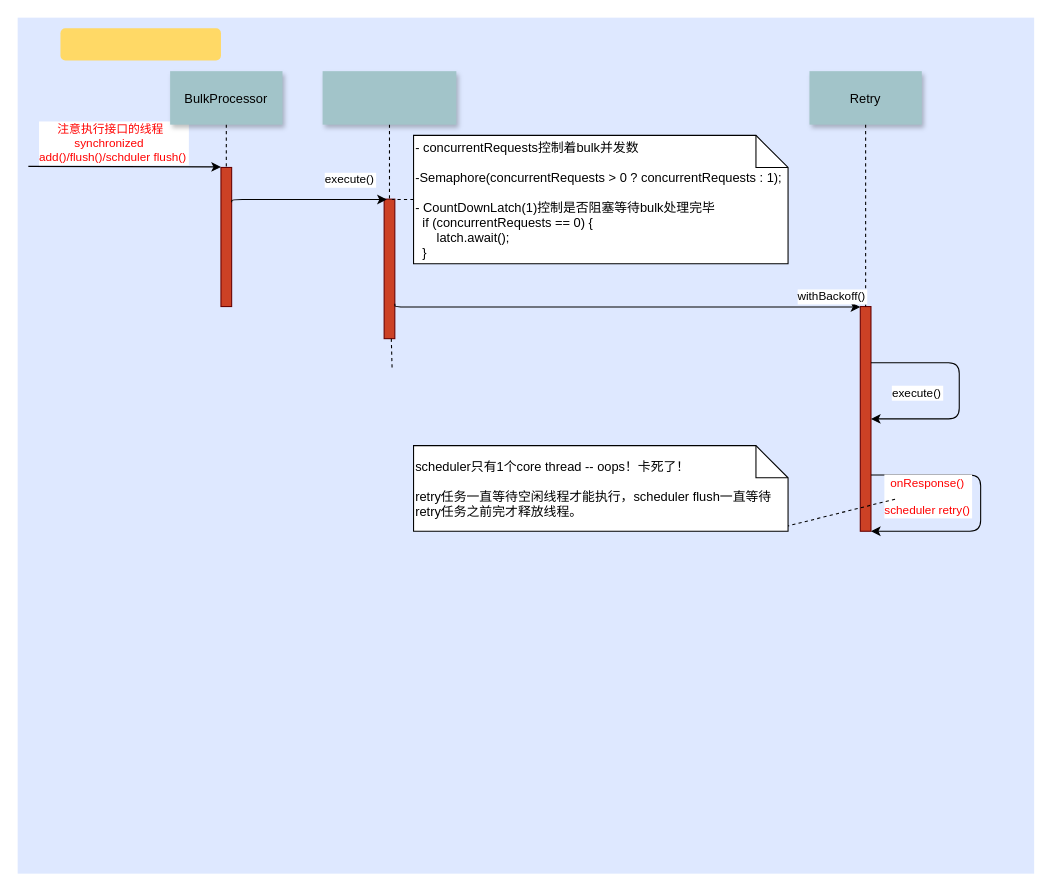
This 1052x891 diagram has some shape labels left out. The shapes that lost their labels are listed below. From the top down, each one's centre as x and y in pixels, then its label:
At (140,44): "ES Rest Client BulkIndex".
At (390,99): "BulkRequestHandler".
